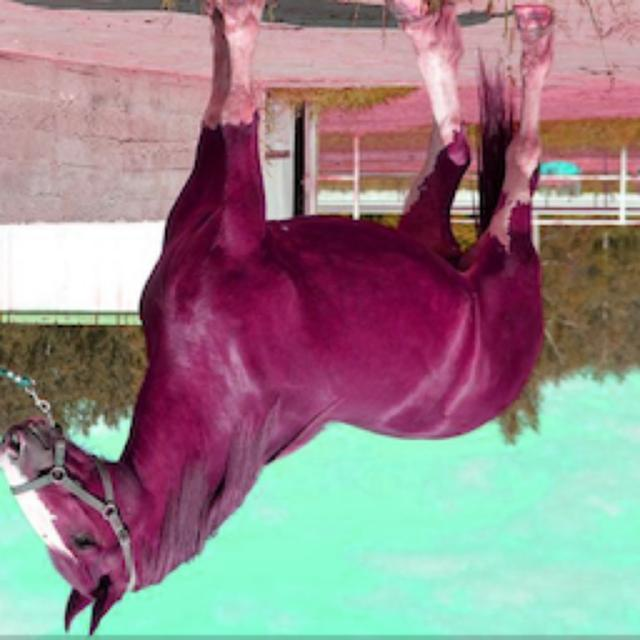Horse: (0, 2, 568, 640)
